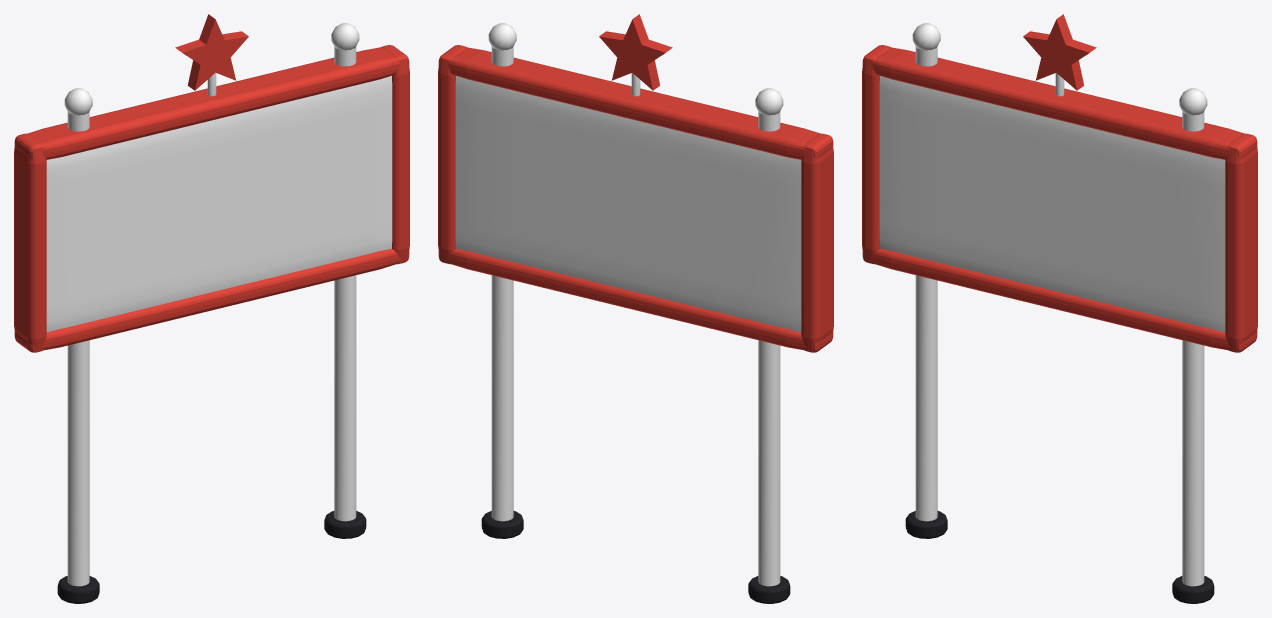
Rendered from MechaMarathonSign.obj.
3 views of the same model, side by side, from view 1: azimuth 30°, elevation 25°; view 2: azimuth 150°, elevation 25°; view 3: azimuth 330°, elevation 25° (orthographic).
Visible parts, largest first — view 1: Board, Frame, Post, Dark; view 2: Board, Frame, Post, Dark; view 3: Board, Frame, Post, Dark.
Part boxes in pixels (<box>): Board: <box>46,75,392,332</box>; Frame: <box>14,14,409,352</box>; Post: <box>64,23,359,586</box>; Dark: <box>57,511,366,603</box>; Board: <box>455,76,801,332</box>; Frame: <box>438,14,833,352</box>; Post: <box>488,23,783,586</box>; Dark: <box>481,511,790,603</box>; Board: <box>879,76,1225,332</box>; Frame: <box>862,14,1257,352</box>; Post: <box>912,23,1207,586</box>; Dark: <box>905,511,1214,603</box>.
Size of the model in its own units: 6.72 by 9.22 by 0.624.
